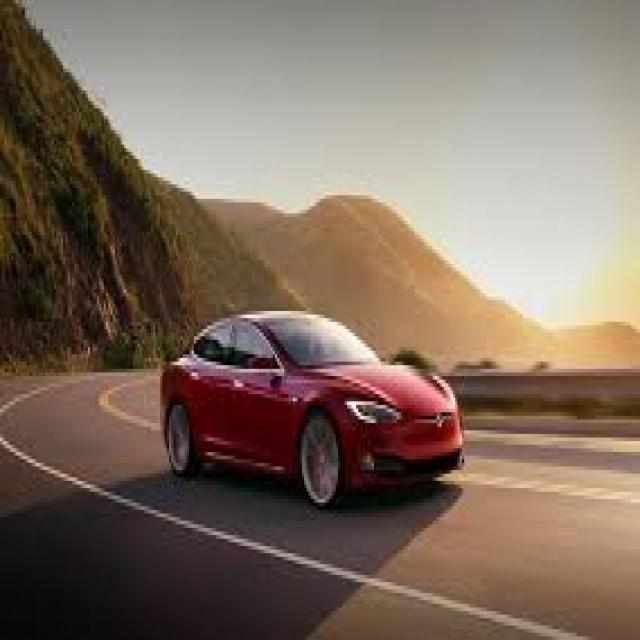Car: (154, 298, 472, 520)
